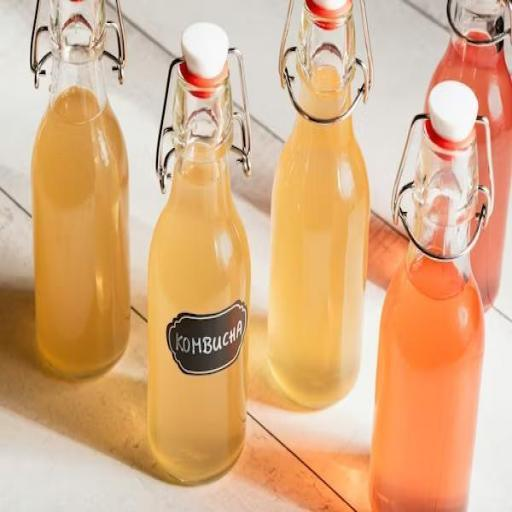bottle: (140, 8, 255, 490), (368, 76, 492, 512)
